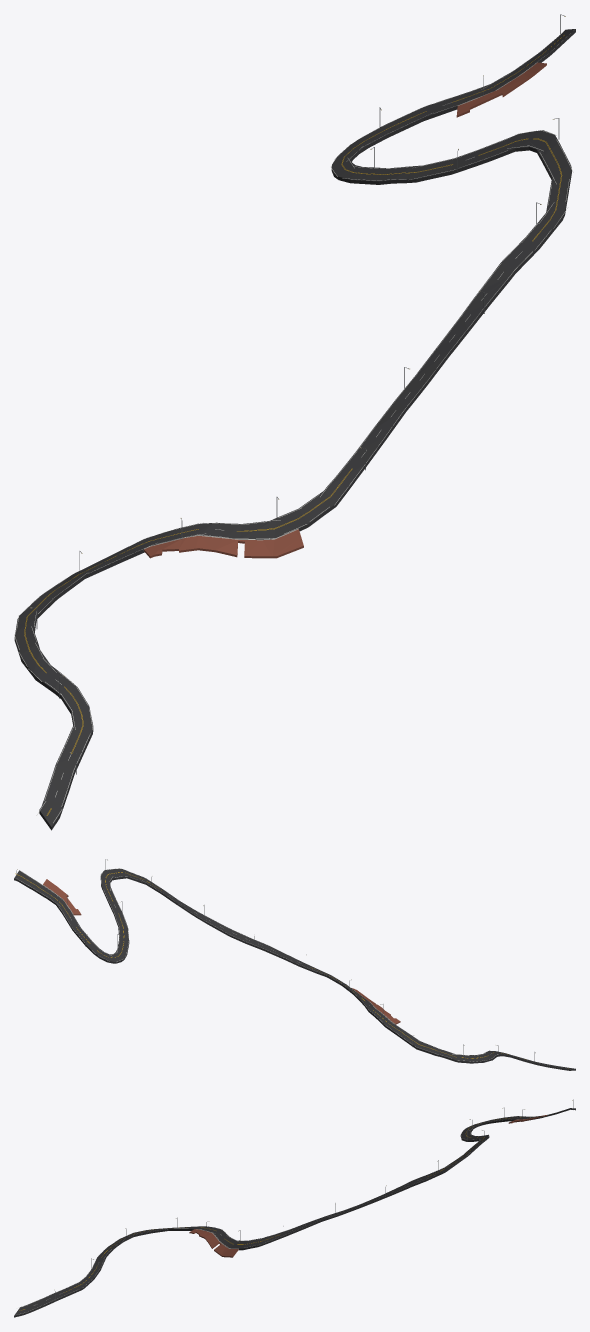
3 renders of one model, top to bottom at view 1: azimuth 30°, elevation 25°; view 2: azimuth 150°, elevation 25°; view 3: azimuth 330°, elevation 25°, orthographic. The views are drawn at different scales.
Size of the model in its own units: 297 by 142 by 200.
